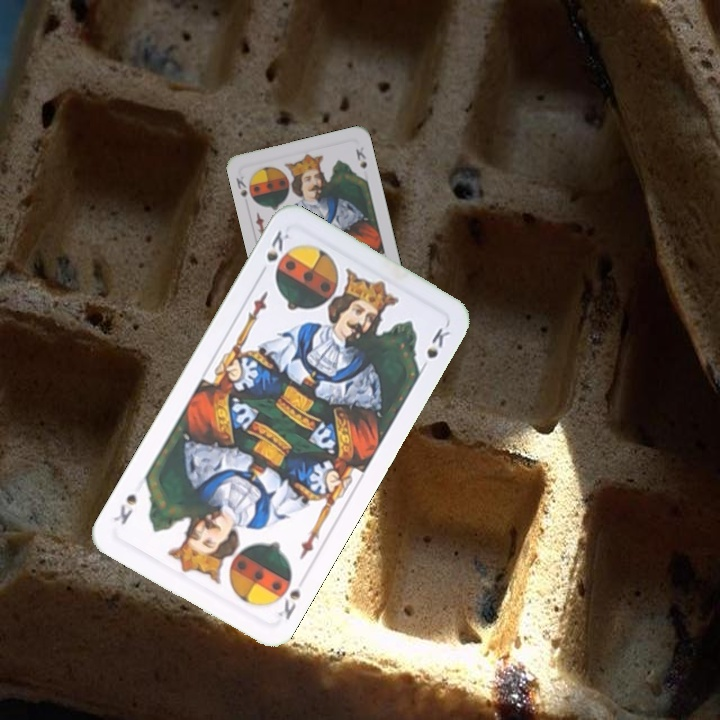SK: (254, 226, 292, 280), (274, 585, 304, 623), (232, 172, 250, 200)
